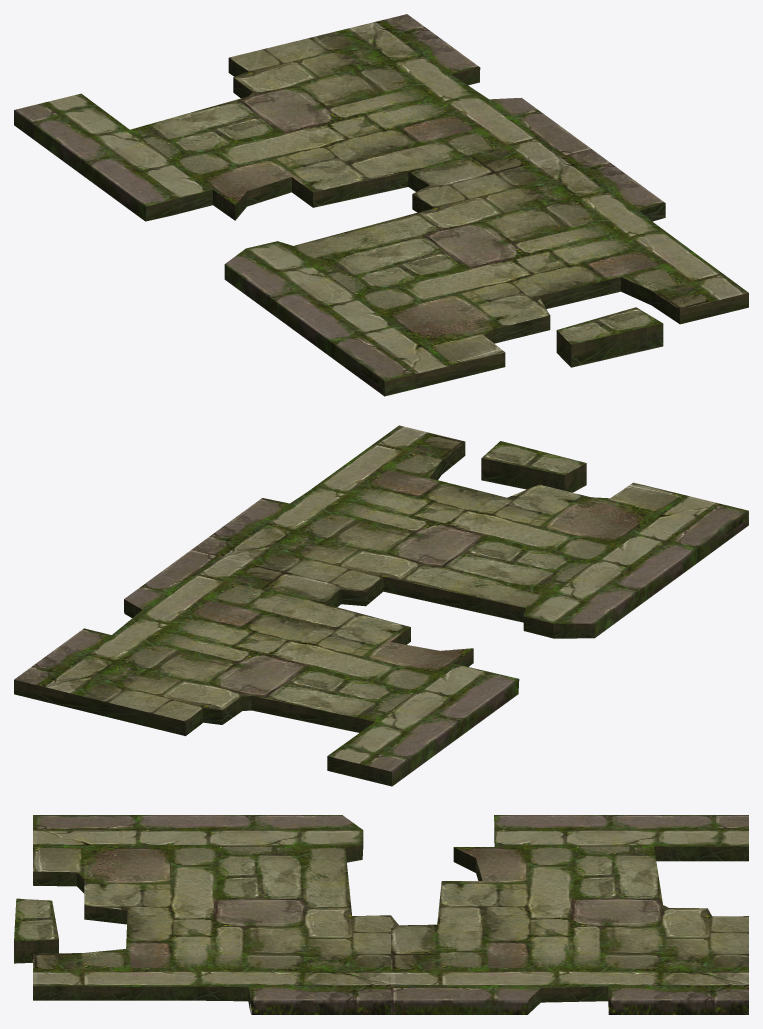
Rendered from yw_huanghunyaosai_polu02.FBX.
The picture shows the model from 3 angles, top to bottom: view 1: azimuth 30°, elevation 25°; view 2: azimuth 150°, elevation 25°; view 3: azimuth 270°, elevation 25°; orthographic projection. The views are drawn at different scales.
Parts seen in each view (by area): view 1: yw_huanghunyaosai_polu02; view 2: yw_huanghunyaosai_polu02; view 3: yw_huanghunyaosai_polu02.
Boxes of the visible parts, <box> form: yw_huanghunyaosai_polu02: <box>14,14,748,396</box>; yw_huanghunyaosai_polu02: <box>14,425,748,786</box>; yw_huanghunyaosai_polu02: <box>14,815,748,1014</box>.
Size of the model in its own units: 452 by 25.32 by 758.
